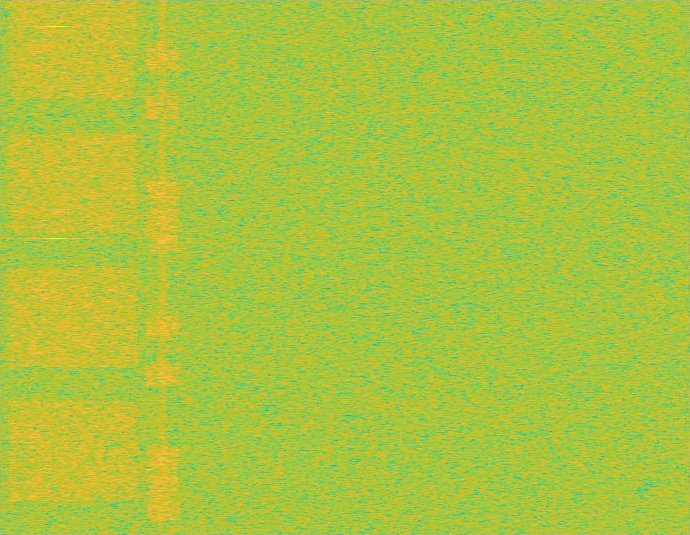5G: (4, 0, 142, 534)
DSSS: (159, 0, 167, 534)
LTE: (145, 0, 180, 534)
Radar: (50, 0, 64, 534)
